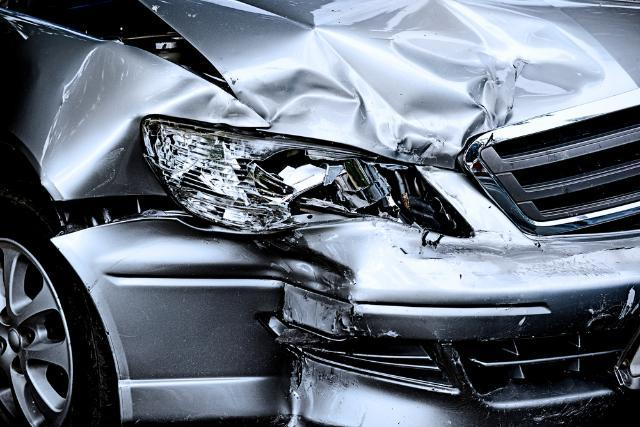crack: (586, 304, 625, 328)
dent: (235, 0, 599, 164), (246, 235, 356, 427), (74, 116, 162, 198), (164, 92, 265, 127)
dislocated part: (53, 189, 357, 427)
lamp broken: (140, 113, 475, 239)
